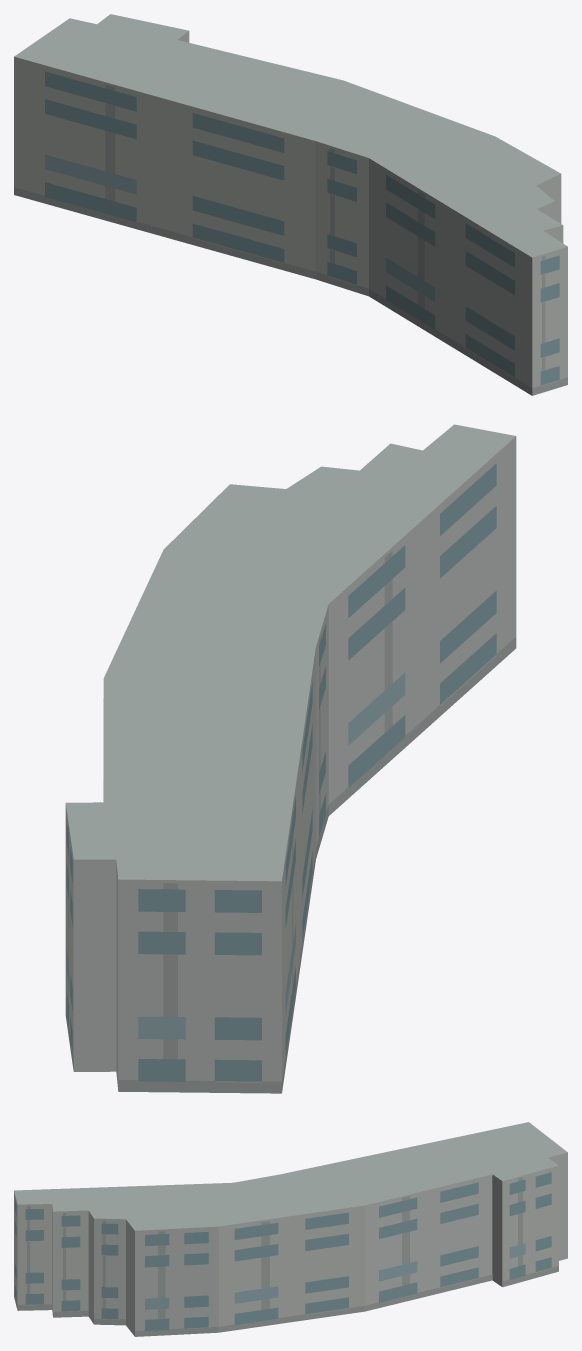
Rendered from residential-704f5fb2-6b64-447d-bc66-b396615bb086.glb.
The picture shows the model from 3 angles, top to bottom: view 1: azimuth 30°, elevation 25°; view 2: azimuth 150°, elevation 25°; view 3: azimuth 270°, elevation 25°; orthographic projection. The views are drawn at different scales.
Parts seen in each view (by area): view 1: residential-704f5fb2-6b64-447d-bc66-b396615bb086.tmp; view 2: residential-704f5fb2-6b64-447d-bc66-b396615bb086.tmp; view 3: residential-704f5fb2-6b64-447d-bc66-b396615bb086.tmp.
Boxes of the visible parts, bbox=[...] form: residential-704f5fb2-6b64-447d-bc66-b396615bb086.tmp: bbox=[14, 14, 567, 395]; residential-704f5fb2-6b64-447d-bc66-b396615bb086.tmp: bbox=[65, 424, 516, 1093]; residential-704f5fb2-6b64-447d-bc66-b396615bb086.tmp: bbox=[14, 1122, 567, 1336].
Bounding box in the file's own units: 33.53 × 15.25 × 72.15.
